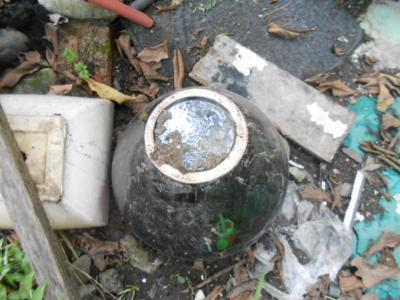bowl: (111, 81, 293, 264)
